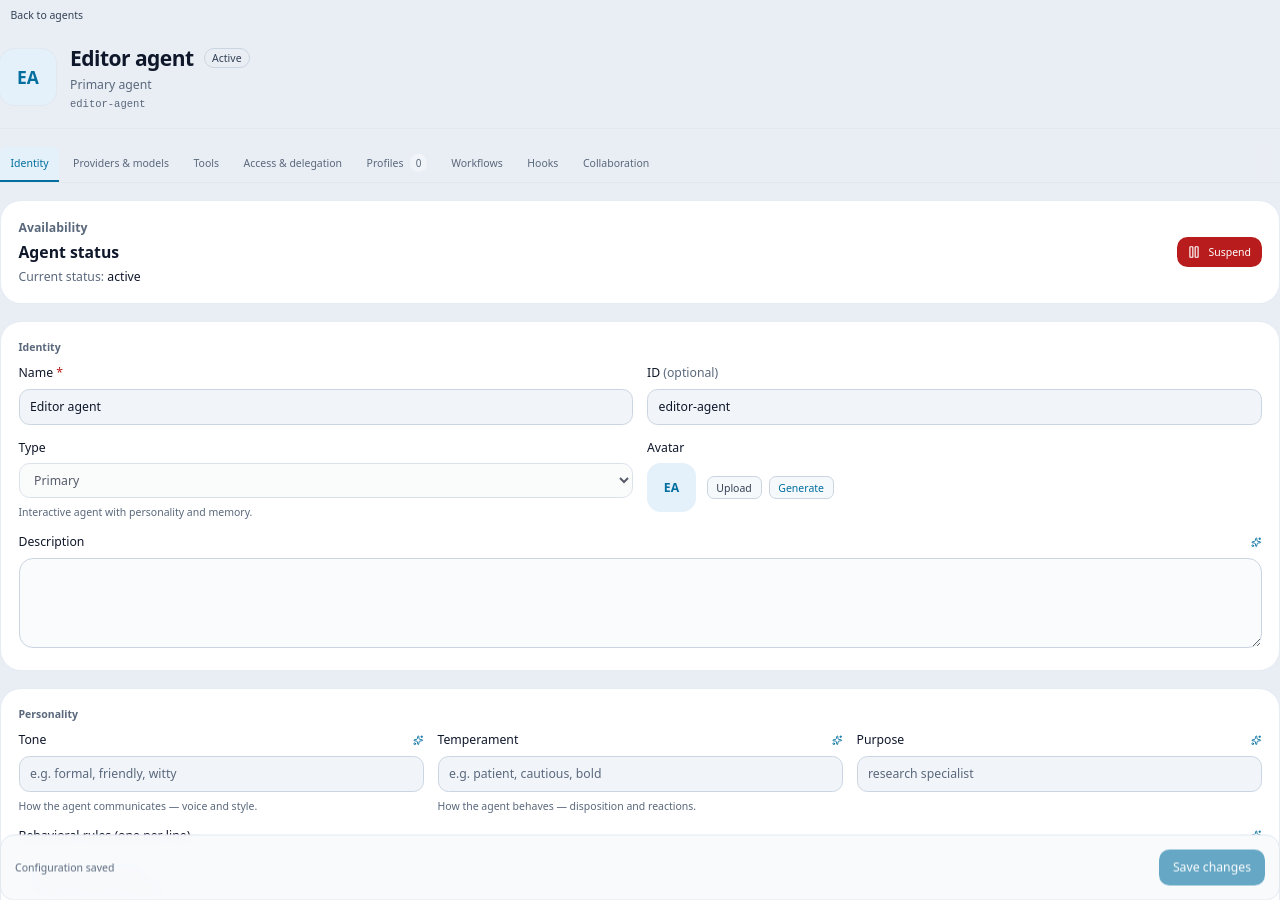
Test: agent detail tabs and save boundaries › keeps edits made while saving dirty instead of overwriting them with the response
Expected: the button "Save changes" is disabled, [1159,849,1265,885]
Step 1. Replace the text in the field with placeholder "Research Assistant" with "Submitted identity" → [326, 406], box [18,388,633,424]
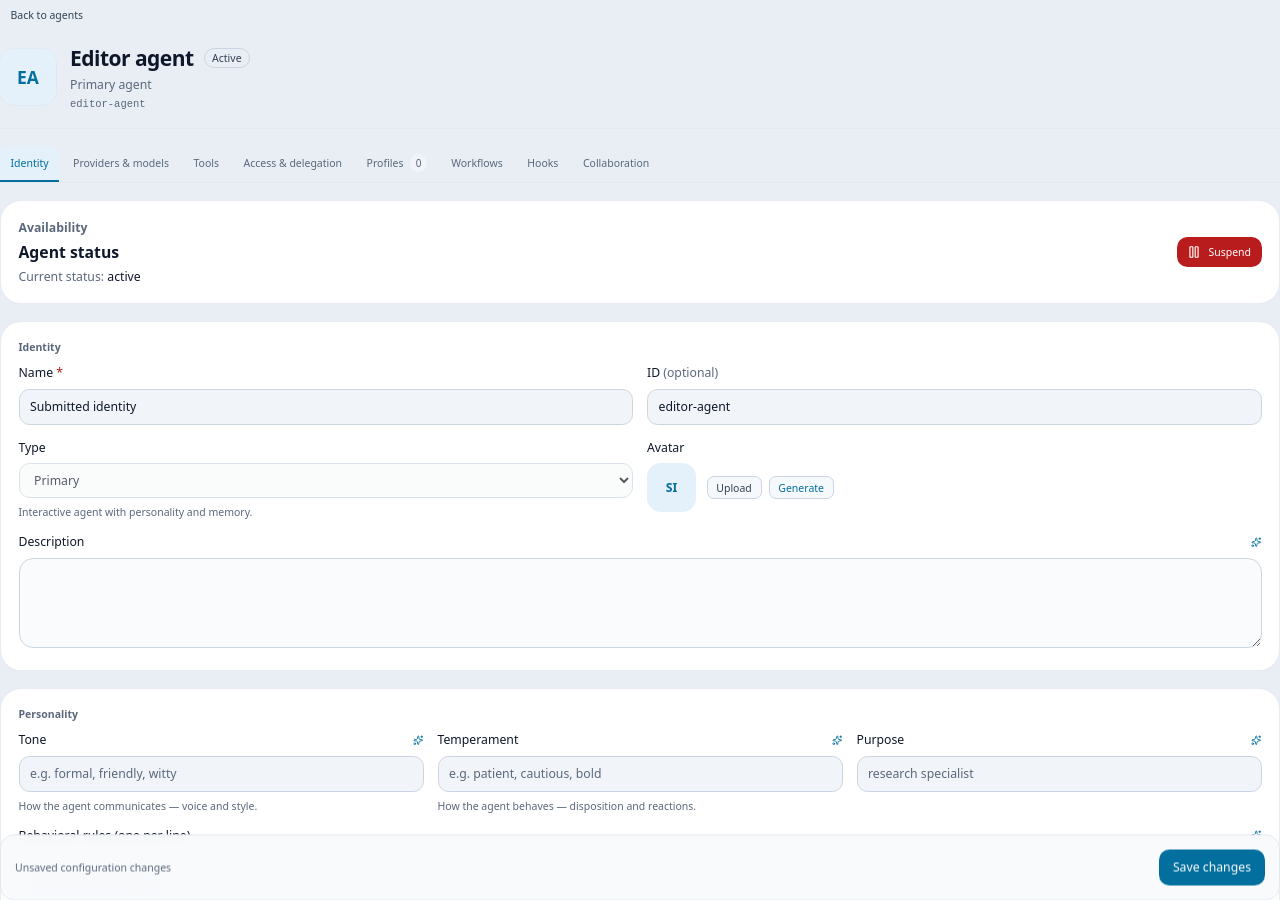
Step 2. Click the button "Save changes" → [1212, 867], box [1159,849,1265,885]
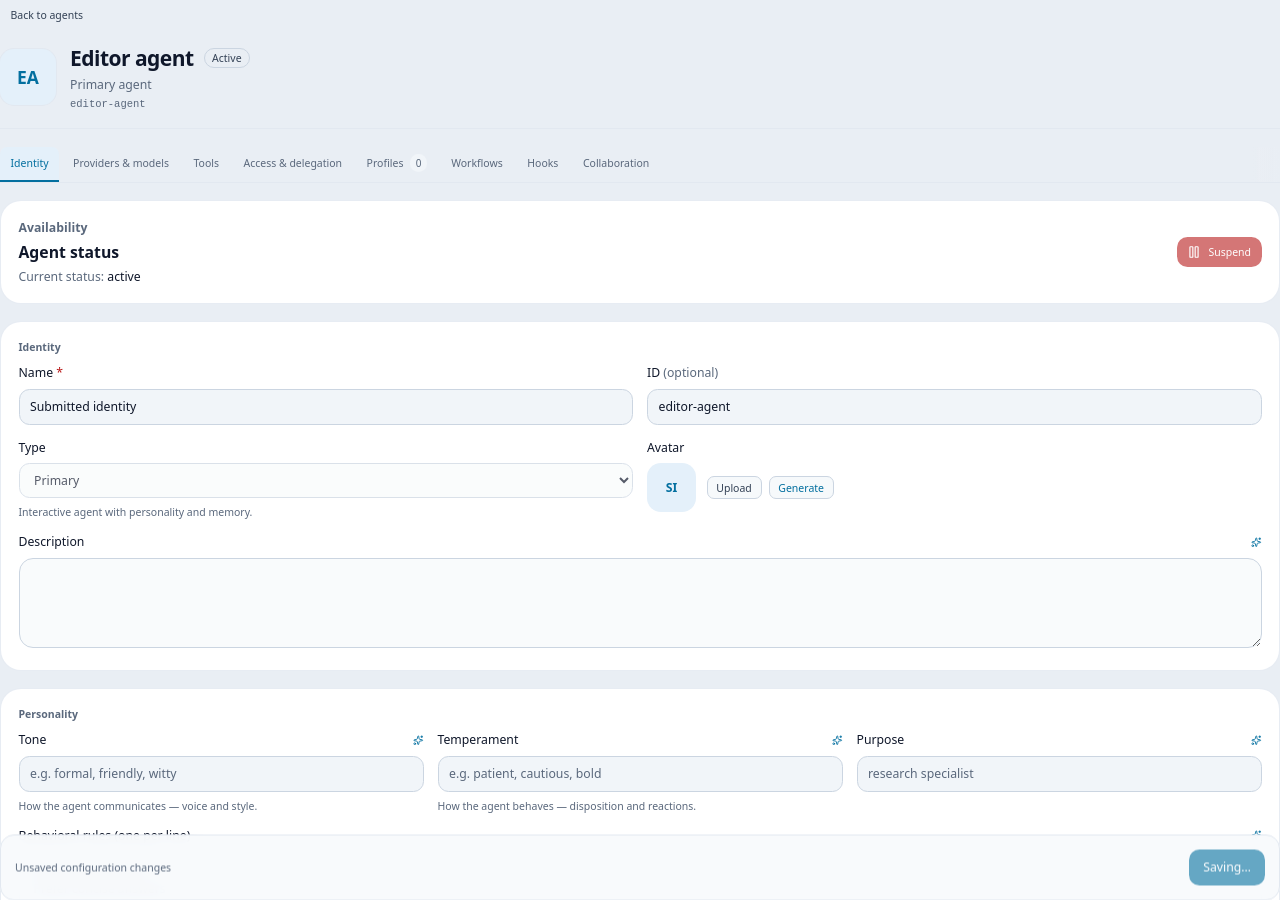
Step 3. Replace the text in the field with placeholder "Research Assistant" with "Newer identity" → [326, 406], box [18,388,633,424]
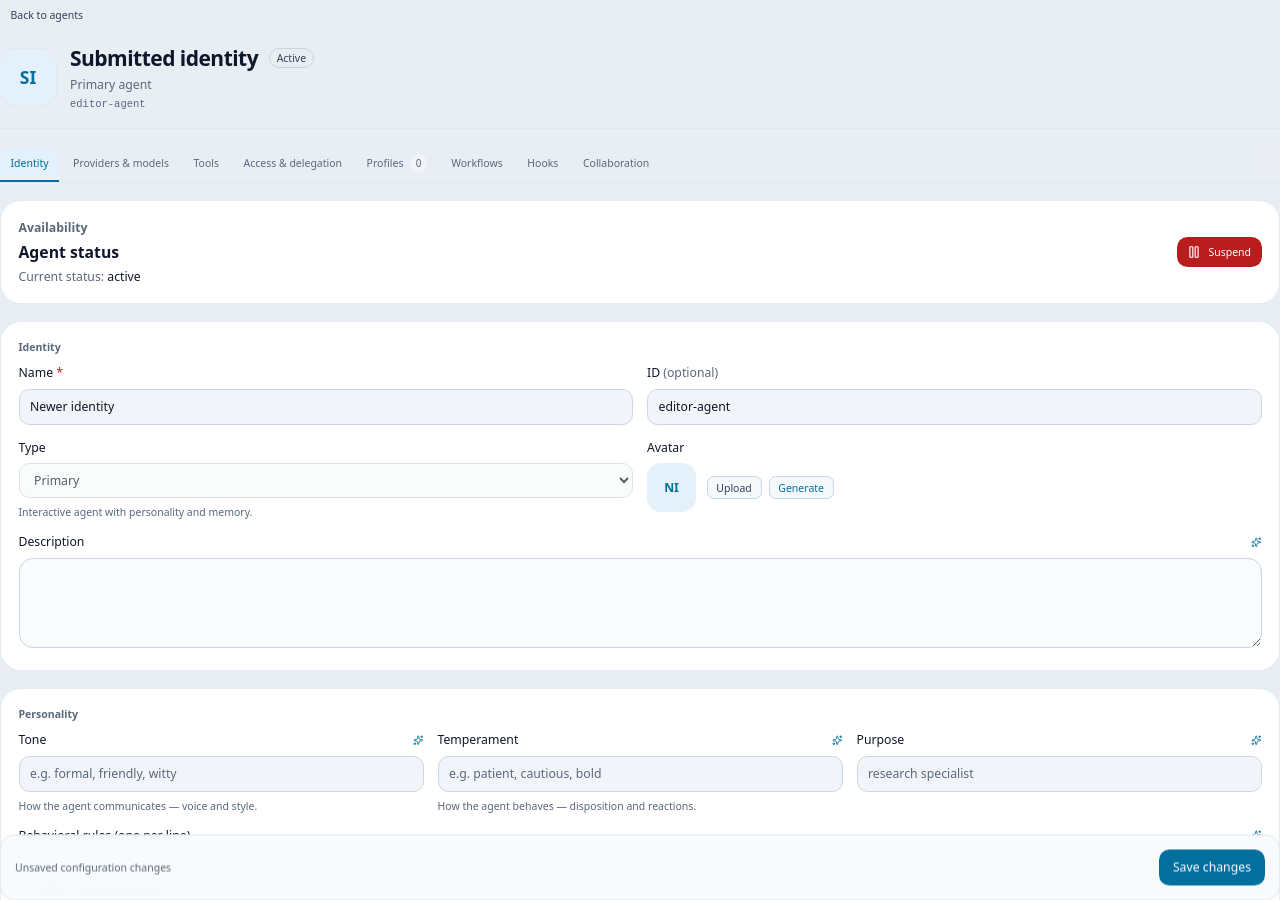
Result: the text "Unsaved configuration changes" is shown at [15,860,171,874]
Result: the button "Save changes" is enabled at [1159,849,1265,885]
